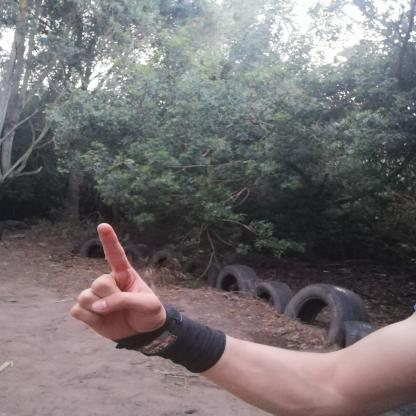BAA: (60, 218, 172, 346)
